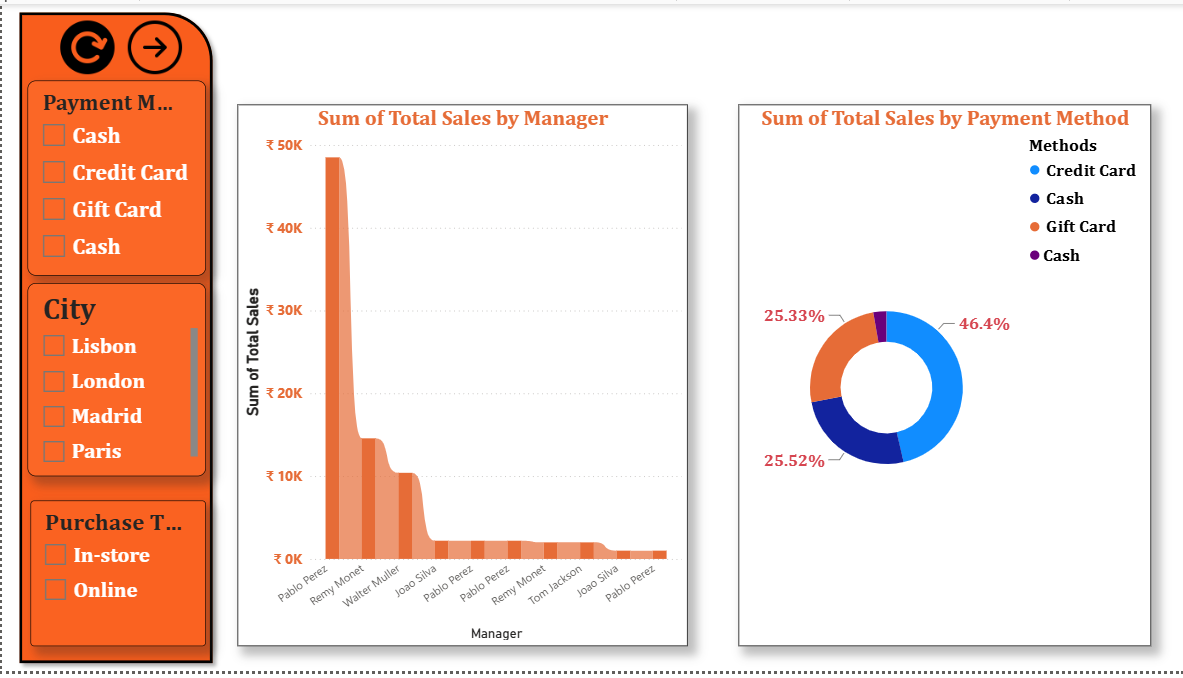

Layout of this report page (visuals, bound fields, positions):
{"tool":"powerbi","page":{"name":"Page 2","canvas":[1280,720],"ordinal":1},"visuals":[{"type":"donutChart","fields":{"Category":["Sheet1.Payment Method"],"Y":["Sum(Sheet1.Total Sales)"]},"box":[795,108.5,445.3,584.5],"z":0},{"type":"shape","box":[9.7,0,226.7,720.6],"z":1000},{"type":"ribbonChart","fields":{"Category":["Sheet1.Manager"],"Y":["Sum(Sheet1.Total Sales)"]},"box":[254.2,108.5,485.8,584.5],"z":2000},{"type":"image","box":[50.2,17.8,84.2,58.3],"z":3000},{"type":"image","box":[123.1,17.8,84.2,58.3],"z":4000},{"type":"slicer","fields":{"Values":["Sheet1.Payment Method"]},"box":[27.5,82.6,192.7,210.5],"z":5000},{"type":"slicer","fields":{"Values":["Sheet1.City"]},"box":[27.5,301.2,192.7,208.9],"z":6000},{"type":"slicer","fields":{"Values":["Sheet1.Purchase Type"]},"box":[30.8,536,189.4,157.1],"z":7000}]}

Visuals, with their boxes in screenshot pixels (x1, y1, x2, y2), scaled from the page's 1280x720 canvas onto the 1183x678 screenshot:
donutChart - Sheet1.Payment Method x Sum(Sheet1.Total Sales): (735,102,1146,653)
shape: (9,0,218,677)
ribbonChart - Sheet1.Manager x Sum(Sheet1.Total Sales): (235,102,684,653)
image: (46,17,124,72)
image: (114,17,192,72)
slicer - Sheet1.Payment Method: (25,78,204,276)
slicer - Sheet1.City: (25,284,204,480)
slicer - Sheet1.Purchase Type: (28,505,204,653)
